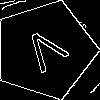V: (19, 25, 76, 82)
